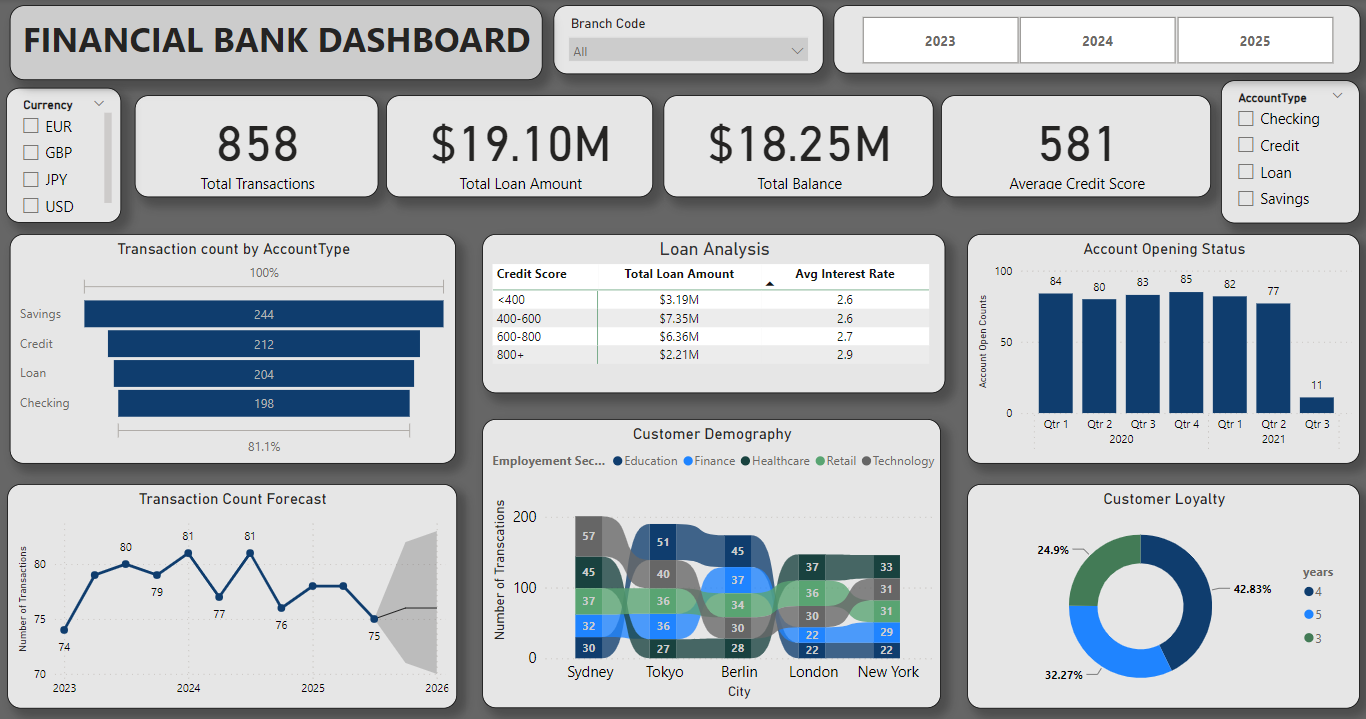

This screenshot's page, from the dashboard's own definition file:
{"tool":"powerbi","page":{"name":"DASHBOARD","canvas":[1500,800],"ordinal":0},"visuals":[{"type":"card","fields":{"Values":["Count(All Customer Transction.TransactionID)"]},"box":[151.4,104.3,265.7,111.4],"z":0},{"type":"card","fields":{"Values":["Sum(All Customer Transction.Loan Amount(USD))"]},"box":[425.7,104.3,291.4,111.4],"z":1000},{"type":"card","fields":{"Values":["Sum(All Customer Transction.Balance(USD))"]},"box":[727.1,104.3,294.3,111.4],"z":2000},{"type":"card","fields":{"Values":["Avg(All Customer Transction.CreditScore)"]},"box":[1030,104.3,294.3,111.4],"z":3000},{"type":"slicer","fields":{"Values":["All Customer Transction.AccountType"]},"box":[1335.7,88.6,151.4,155.7],"z":4000},{"type":"slicer","fields":{"Values":["All Customer Transction.Currency"]},"box":[11.4,97.1,125.7,147.1],"z":5000},{"type":"slicer","fields":{"Values":["All Customer Transction.BranchCode"]},"box":[590,7.1,294.3,74.3],"z":6000},{"type":"slicer","fields":{"Values":["All Customer Transction.TransactionDate.Variation.Date Hierarchy.Year"]},"box":[912.9,7.1,574.3,74.3],"z":7000},{"type":"lineChart","title":"Transaction Count Forecast","fields":{"Category":["All Customer Transction.TransactionDate.Variation.Date Hierarchy.Year","All Customer Transction.TransactionDate.Variation.Date Hierarchy.Quarter"],"Y":["CountNonNull(All Customer Transction.TransactionID)"]},"box":[11.7,528.3,490,245],"z":8000},{"type":"textbox","box":[15,6.7,556.7,81.7],"z":9000},{"type":"pivotTable","title":"Loan Analysis","fields":{"Rows":["All Customer Transction.Credit Score Range"],"Values":["Sum(All Customer Transction.Loan Amount(USD))","Avg(All Customer Transction.InterestRate)"]},"box":[530,256.7,505,173.3],"z":10000},{"type":"clusteredColumnChart","title":"Account Opening Status","fields":{"Category":["All Customer Transction.OpeningDate.Variation.Date Hierarchy.Year","All Customer Transction.OpeningDate.Variation.Date Hierarchy.Quarter"],"Y":["Count(All Customer Transction.AccountNumber)"]},"box":[1058.3,256.7,428.3,250],"z":11000},{"type":"ribbonChart","title":"Customer Demography","fields":{"Category":["All Customer Transction.City"],"Y":["CountNonNull(All Customer Transction.TransactionID)"],"Series":["All Customer Transction.Employement Sector"]},"box":[530,458.3,500,315],"z":12000},{"type":"funnel","title":"Transaction count by AccountType","fields":{"Category":["All Customer Transction.AccountType"],"Y":["CountNonNull(All Customer Transction.TransactionID)"]},"box":[15,256.7,486.7,250],"z":13000},{"type":"donutChart","title":"Customer Loyalty","fields":{"Y":["Count(All Customer Transction.AccountNumber)"],"Category":["All Customer Transction.Customer(year)"]},"box":[1058.3,528.3,428.3,245],"z":14000}]}

Visuals, with their boxes in screenshot pixels (x1, y1, x2, y2), scaled from the page's 1500x800 canvas onto the 1366x719 screenshot:
card - Count(All Customer Transction.TransactionID): rect(138, 94, 380, 194)
card - Sum(All Customer Transction.Loan Amount(USD)): rect(388, 94, 653, 194)
card - Sum(All Customer Transction.Balance(USD)): rect(662, 94, 930, 194)
card - Avg(All Customer Transction.CreditScore): rect(938, 94, 1206, 194)
slicer - All Customer Transction.AccountType: rect(1216, 80, 1354, 220)
slicer - All Customer Transction.Currency: rect(10, 87, 125, 219)
slicer - All Customer Transction.BranchCode: rect(537, 6, 805, 73)
slicer - All Customer Transction.TransactionDate.Variation.Date Hierarchy.Year: rect(831, 6, 1354, 73)
"Transaction Count Forecast" lineChart: rect(11, 475, 457, 695)
textbox: rect(14, 6, 521, 79)
"Loan Analysis" pivotTable: rect(483, 231, 943, 386)
"Account Opening Status" clusteredColumnChart: rect(964, 231, 1354, 455)
"Customer Demography" ribbonChart: rect(483, 412, 938, 695)
"Transaction count by AccountType" funnel: rect(14, 231, 457, 455)
"Customer Loyalty" donutChart: rect(964, 475, 1354, 695)
